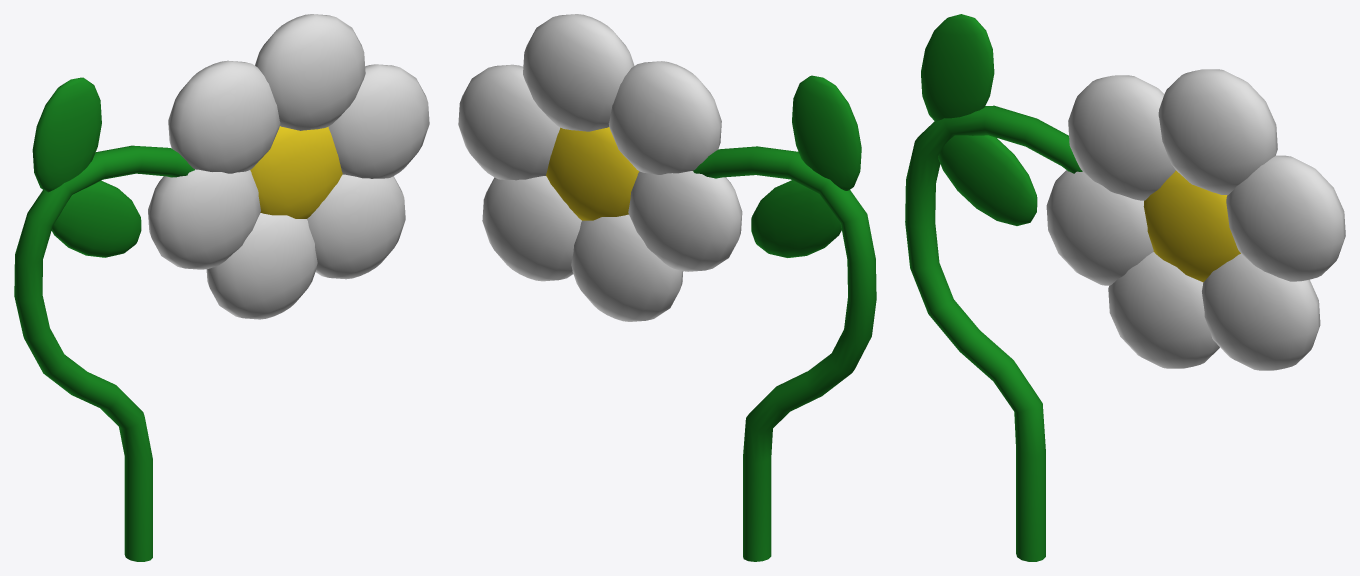
The model's file is Flower02.fbx.
The picture shows the model from 3 angles, left to right: view 1: azimuth 30°, elevation 25°; view 2: azimuth 150°, elevation 25°; view 3: azimuth 330°, elevation 25°; orthographic projection. The views are drawn at different scales.
Parts seen in each view (by area): view 1: Flower01; view 2: Flower01; view 3: Flower01.
Part boxes in pixels (<box>): Flower01: <box>14,14,429,561</box>; Flower01: <box>458,14,876,561</box>; Flower01: <box>905,14,1345,561</box>.
Size of the model in its own units: 24.88 by 28.71 by 3.5.
